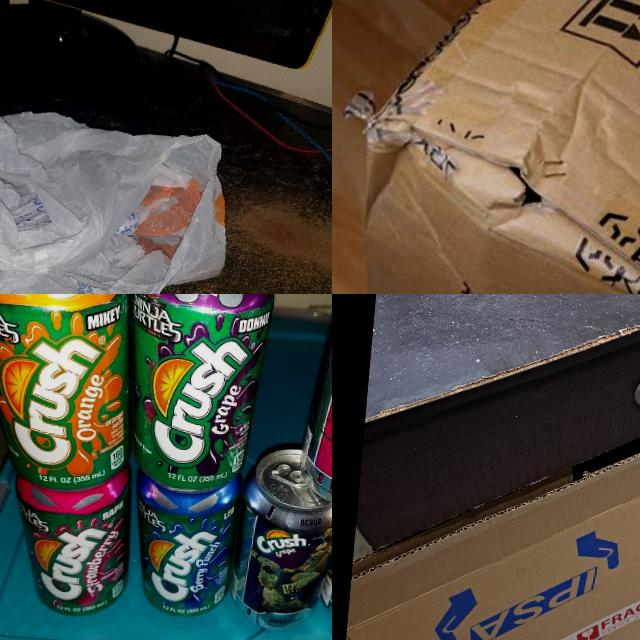aba de lata: (265, 459, 312, 488)
lata: (114, 294, 279, 499), (0, 294, 150, 494), (5, 455, 138, 619), (224, 441, 332, 636), (125, 458, 246, 620)
papelão: (336, 319, 640, 640), (341, 0, 640, 294)
sacola plástica: (0, 90, 243, 294)
